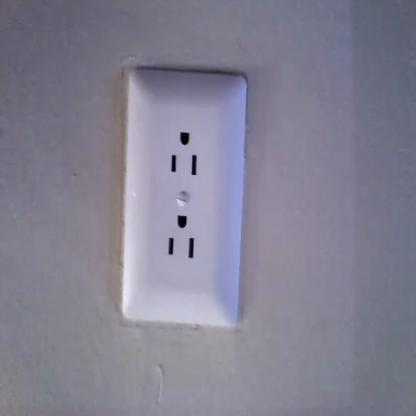OUTLET: (120, 72, 248, 324)
